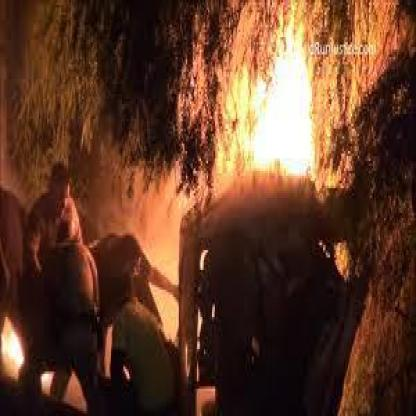fire: (178, 31, 318, 172), (0, 311, 25, 370), (332, 240, 352, 269), (192, 306, 202, 346), (39, 366, 53, 390), (198, 246, 207, 268), (208, 302, 216, 317)
